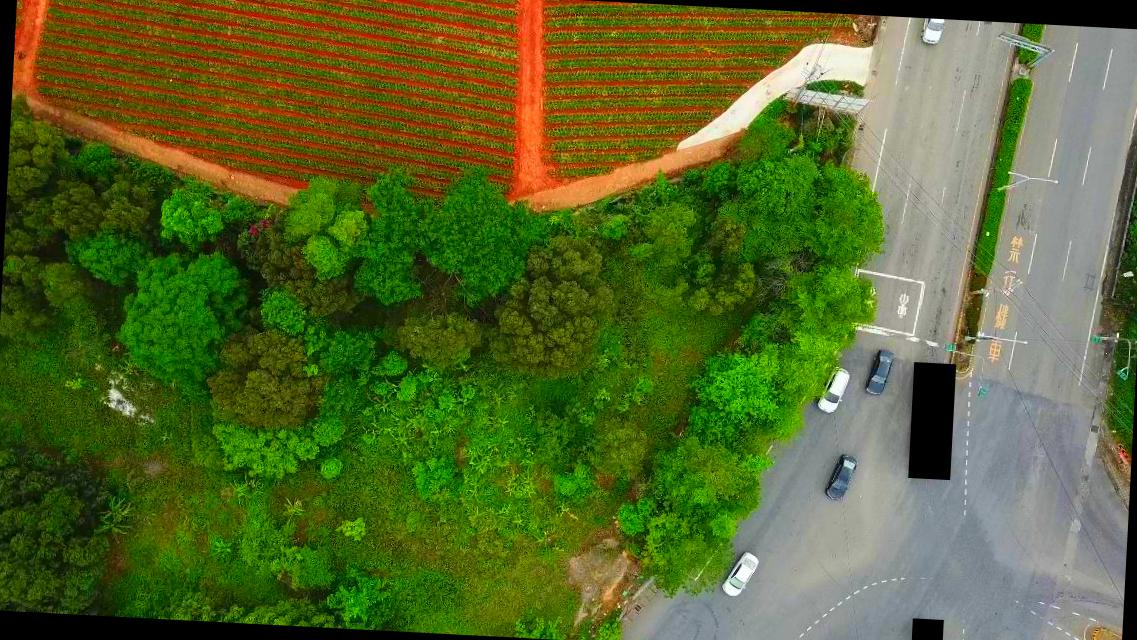vehicle: (719, 551, 758, 598), (823, 454, 857, 502), (815, 366, 848, 415), (862, 348, 892, 398), (920, 19, 944, 45)
